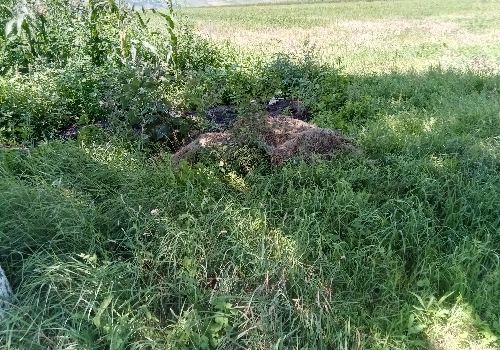trash: (110, 77, 401, 189)
